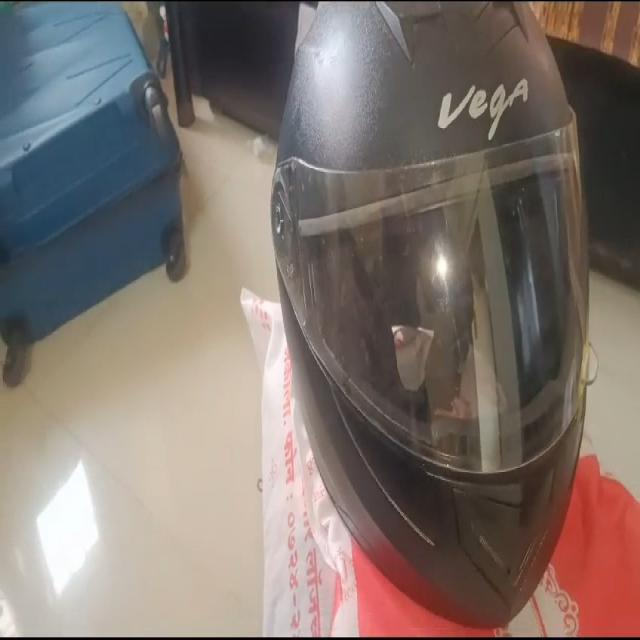Helmet: (271, 4, 589, 625)
